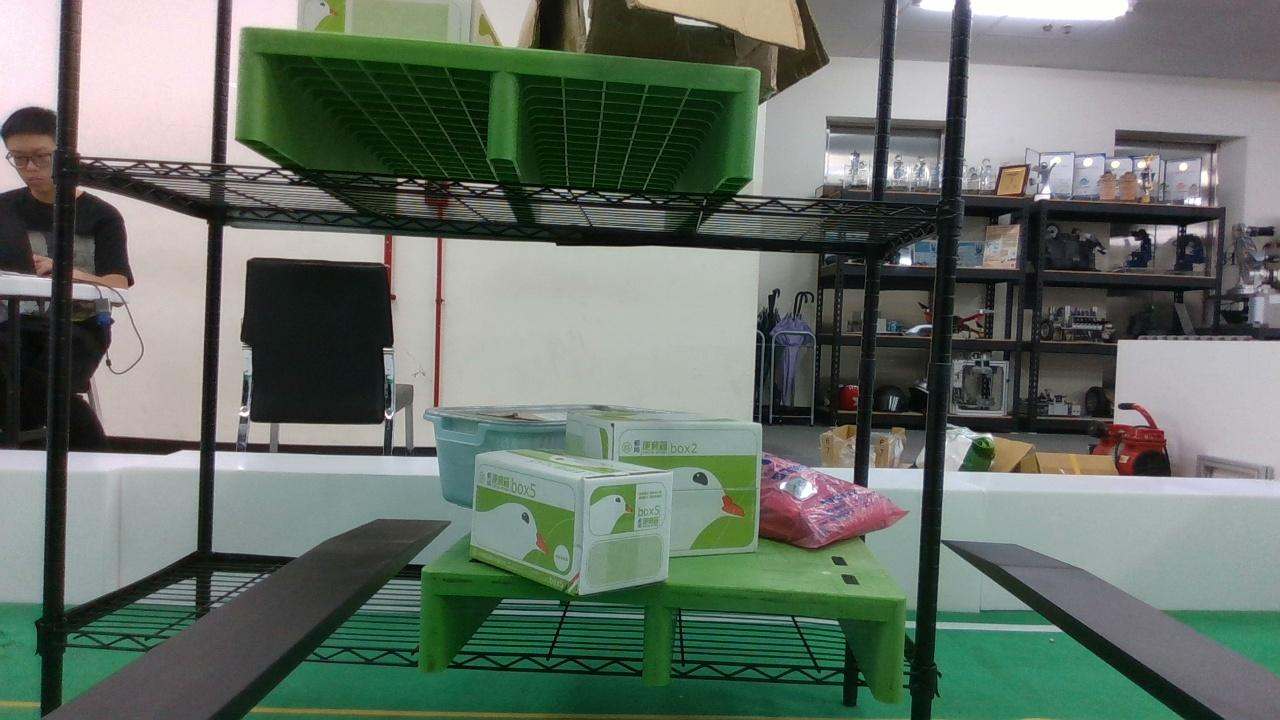Pallet: (231, 25, 762, 186), (414, 579, 913, 702)
